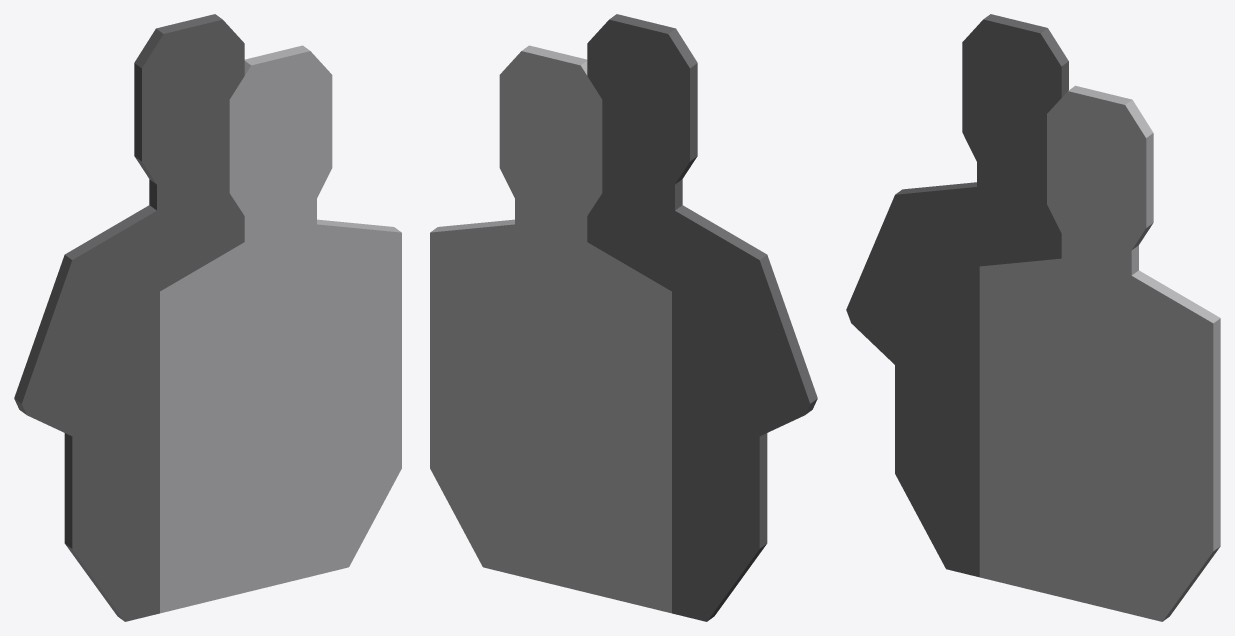
The model's file is enemy-target-hostage.glb.
3 renders of one model, left to right at view 1: azimuth 30°, elevation 25°; view 2: azimuth 150°, elevation 25°; view 3: azimuth 330°, elevation 25°, orthographic. The views are drawn at different scales.
Visible parts, largest first — view 1: hostage, silhouette-target-gun-body, silhouette-target-gun-head; view 2: hostage, silhouette-target-gun-body, silhouette-target-gun-head; view 3: hostage, silhouette-target-gun-body, silhouette-target-gun-head.
Boxes of the visible parts, x1,y1,x2,y2 form: hostage: [160, 45, 401, 613]; silhouette-target-gun-body: [14, 193, 244, 621]; silhouette-target-gun-head: [134, 14, 244, 210]; hostage: [430, 45, 671, 613]; silhouette-target-gun-body: [587, 193, 817, 621]; silhouette-target-gun-head: [587, 14, 697, 210]; hostage: [979, 85, 1220, 621]; silhouette-target-gun-body: [846, 182, 1061, 577]; silhouette-target-gun-head: [962, 14, 1068, 203].
Bounding box in the file's own units: 1 × 1.46 × 0.035.
Materials: 2 (2 with a texture image).
